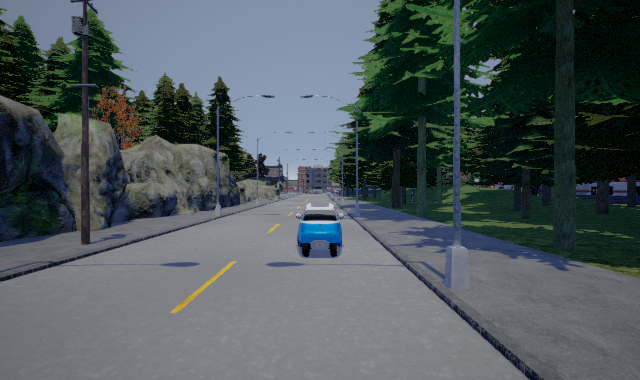vehicle: (296, 202, 342, 257)
